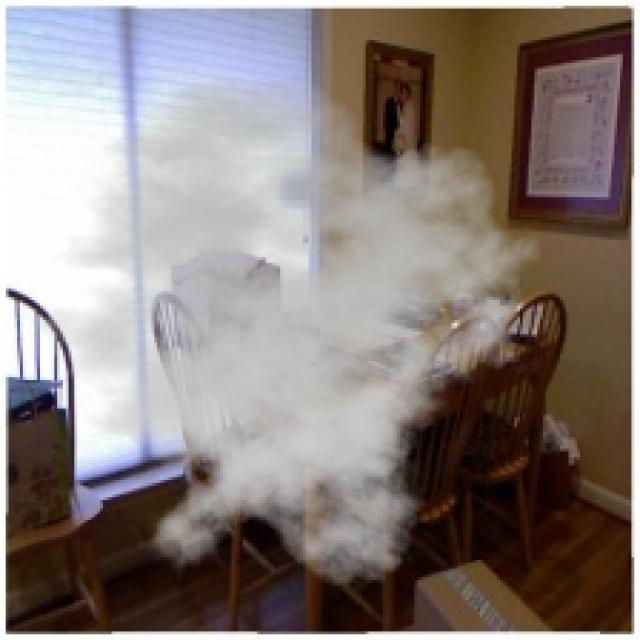smoke: (6, 74, 554, 589)
